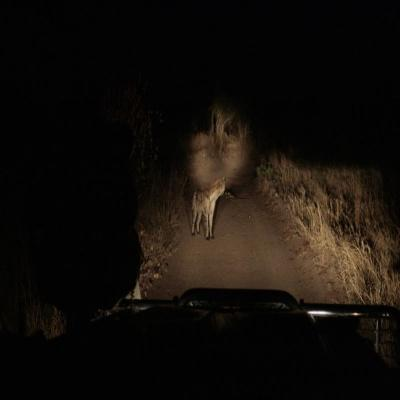hyenas: (185, 168, 237, 246)
